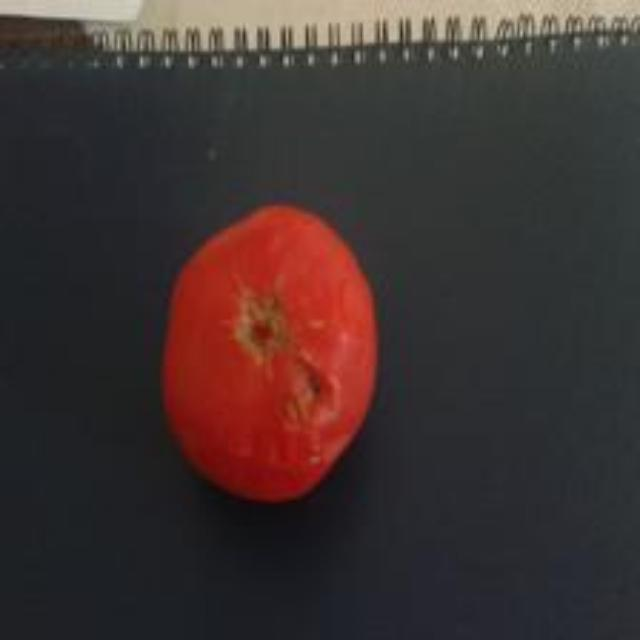defect: (152, 188, 387, 511)
